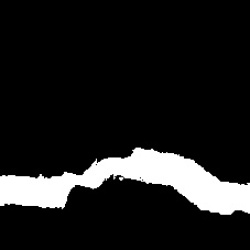crack: (3, 148, 247, 216)
